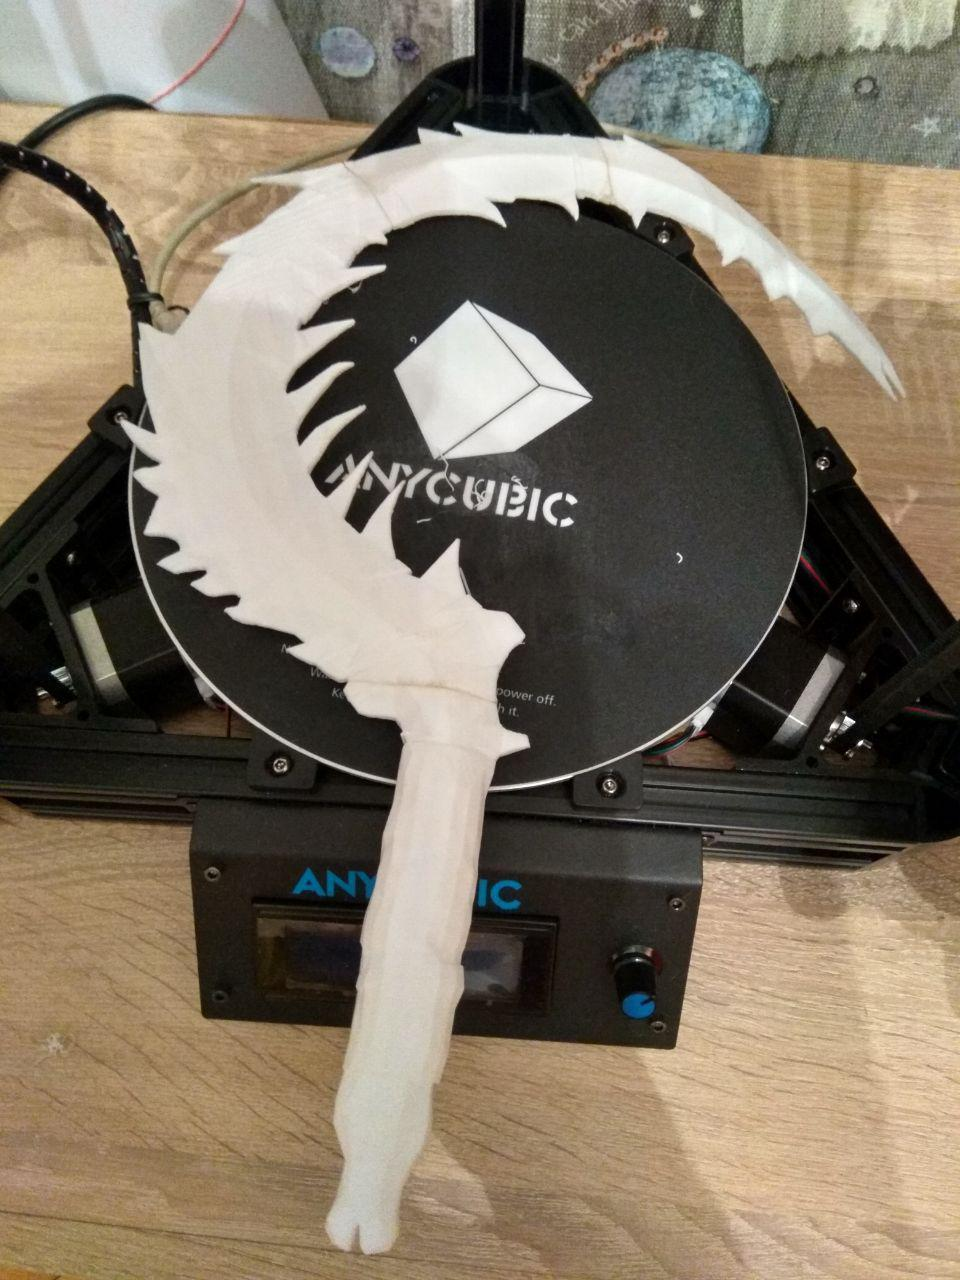foice: (136, 128, 916, 1254)
